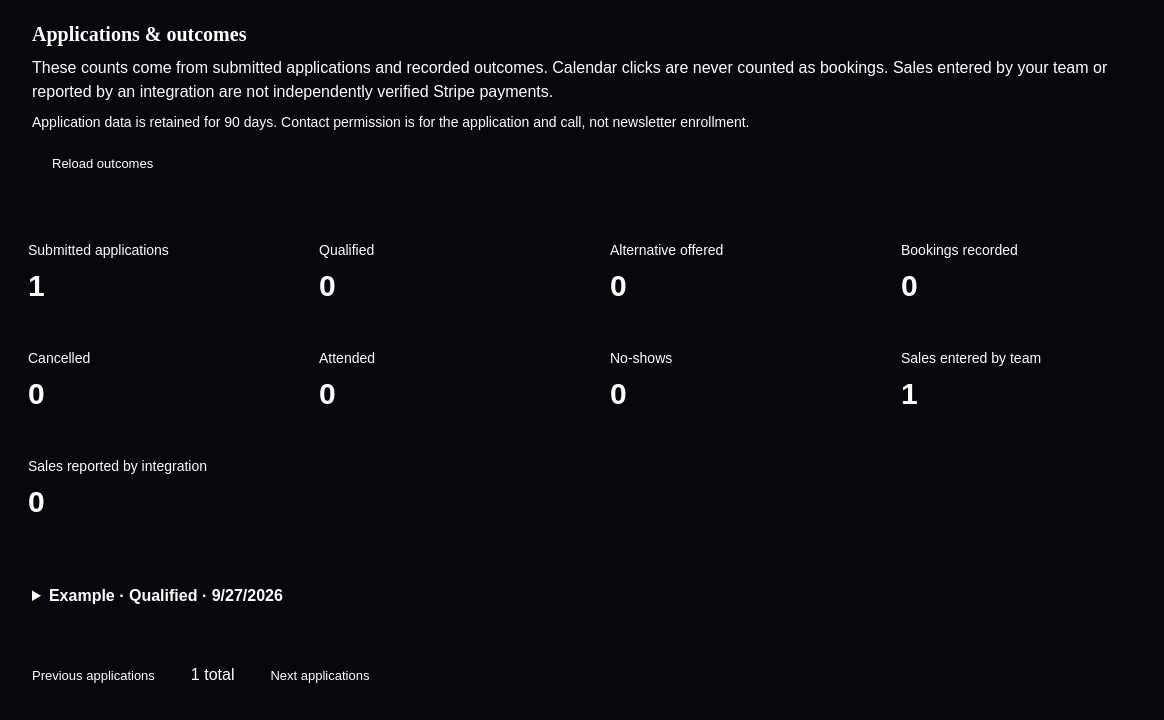
Test: call funnel outcome reporting › uses pinned question labels and clearly distinguishes evidence sources
The width and height of the screenshot is (1164, 720).
Click the heading "Example · Qualified · 9/27/2026" at (166, 595), box top-left (49, 586), bottom-right (283, 604)
(page scrolled)
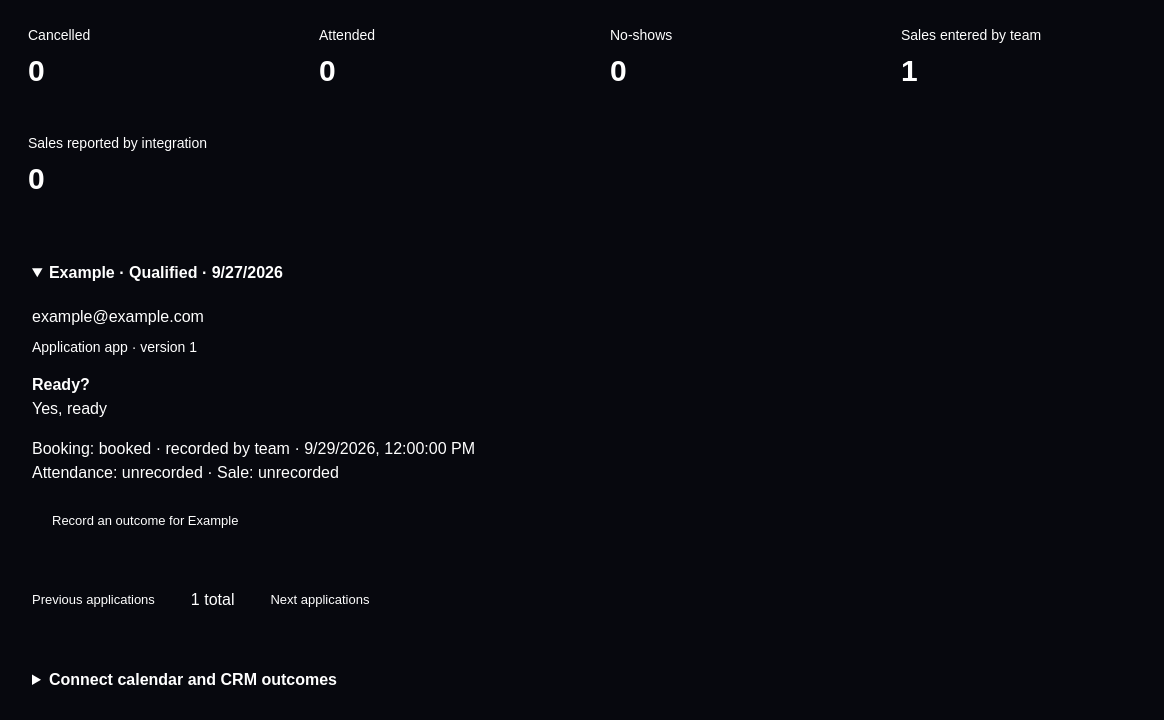
Expected: the text "Sales entered by team" is shown, top-left (901, 26), bottom-right (1041, 42)
Now the text "Yes, ready" is shown, box top-left (32, 400), bottom-right (107, 416)
Now the text "Booking: booked · recorded by team · 9/29/2026, 12:00:00 PM" is shown, box top-left (32, 440), bottom-right (475, 456)
